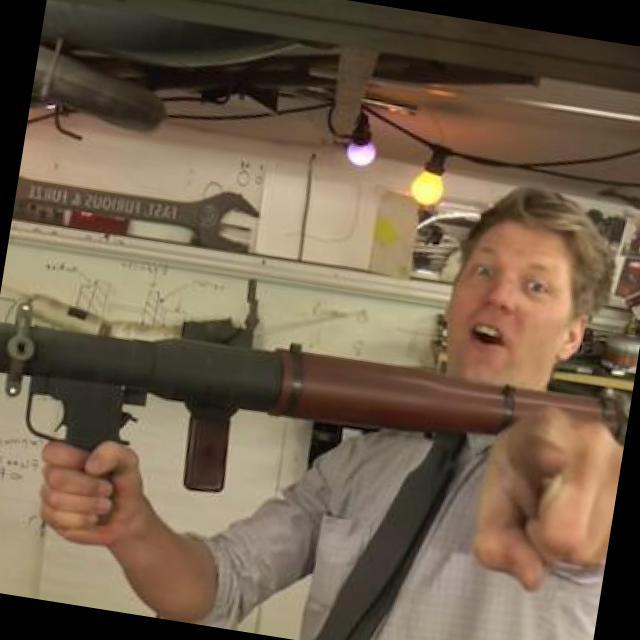rocket: (0, 299, 536, 537)
